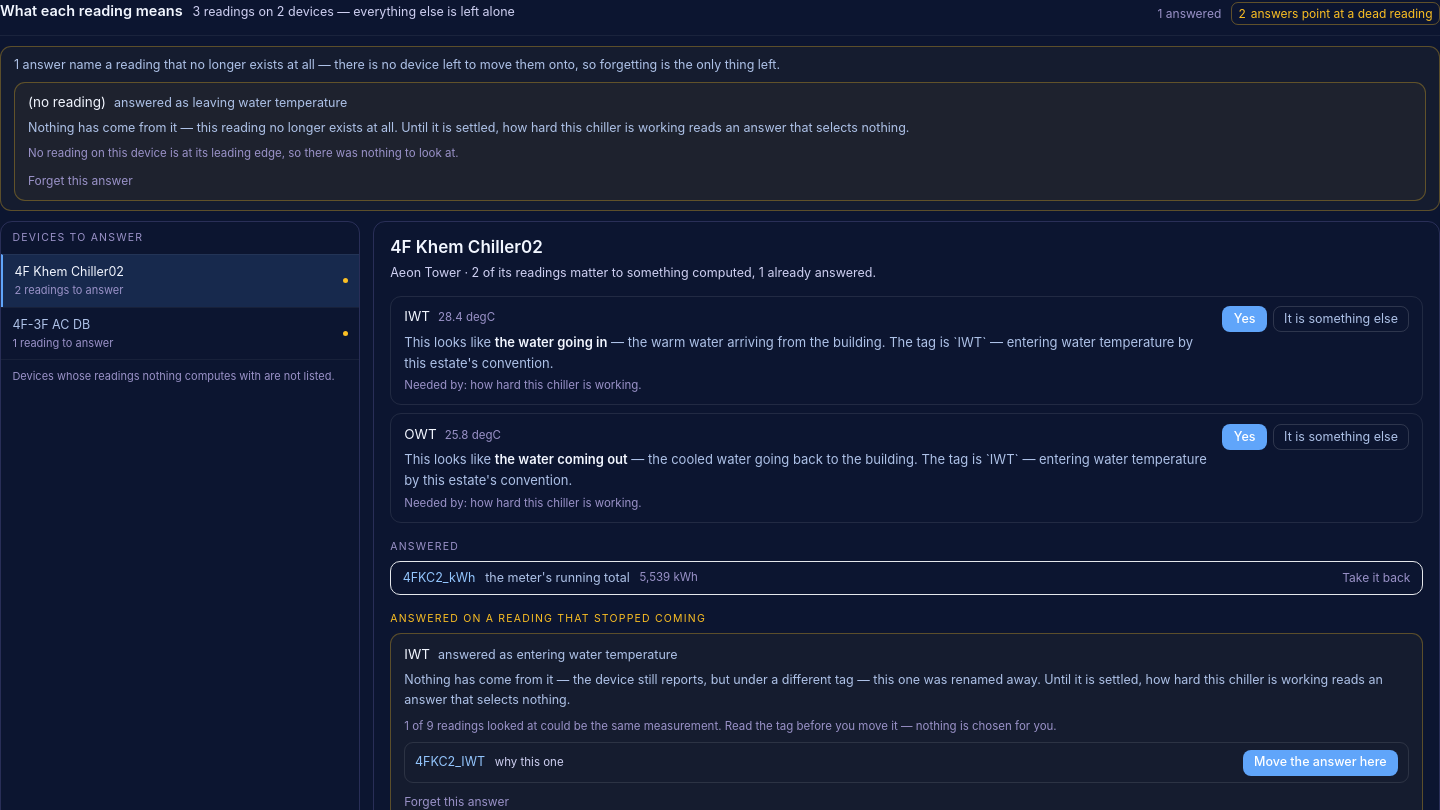
Test: an answer left on a reading that stopped coming › says why, offers the successor with the evidence, and moves only on a press
This screenshot has width=1440, height=810.
Expected: the text "Answered on a reading that stopped coming" is shown, [390,612,706,625]
Expected: the text "renamed away" is shown, [573,672,1037,687]
Click the button "why this one" at [529, 763], box [495,754,564,771]
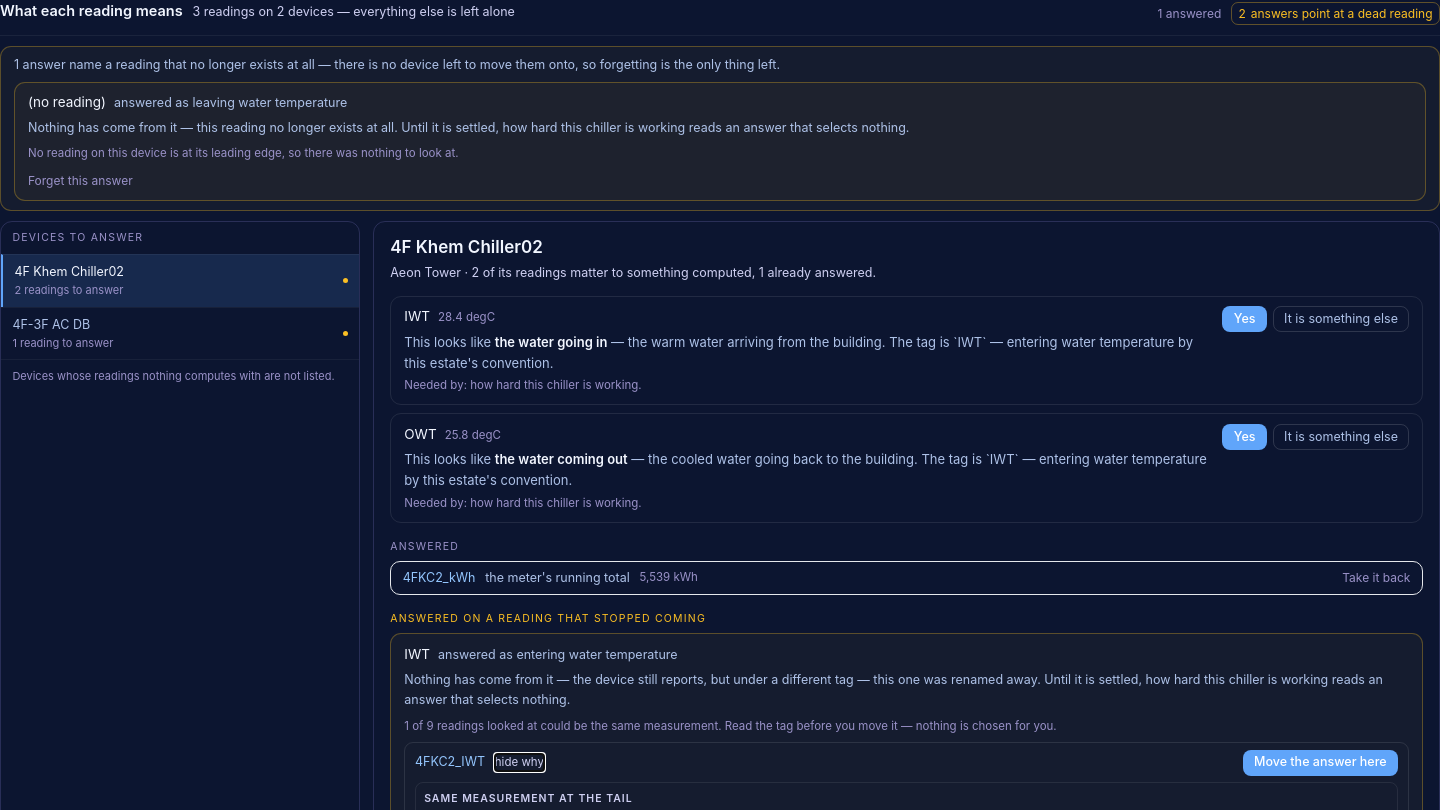
Click the button "Move the answer here" at [1320, 763], box [1243,750,1398,776]
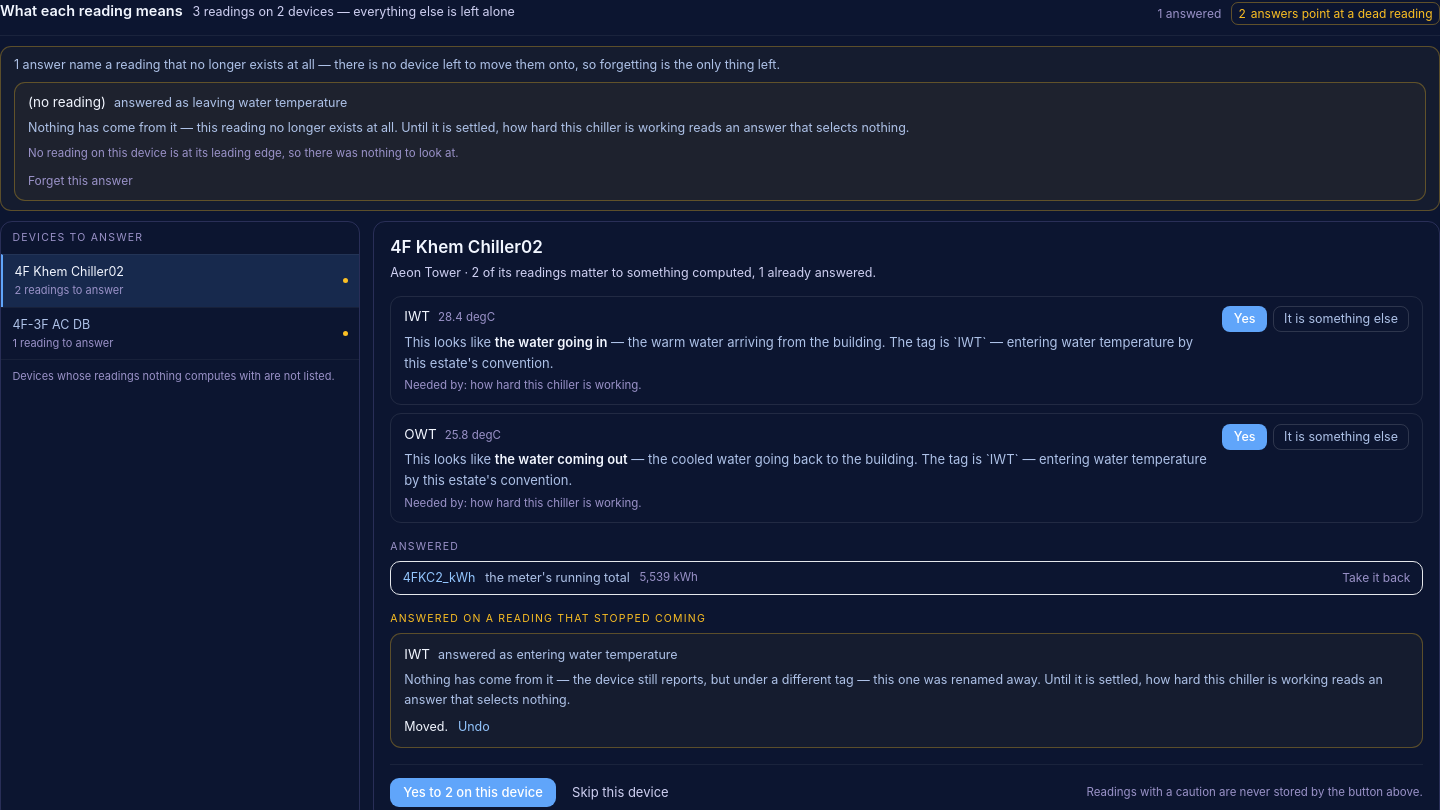
Result: the button "Undo" is shown at [458,718,490,737]
